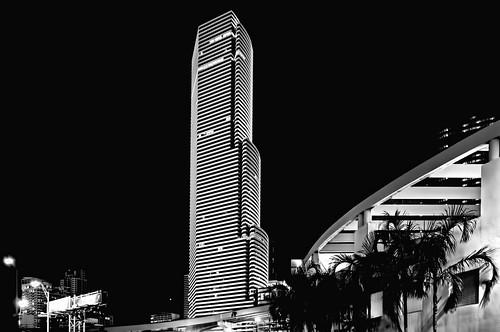building: (184, 8, 271, 320)
